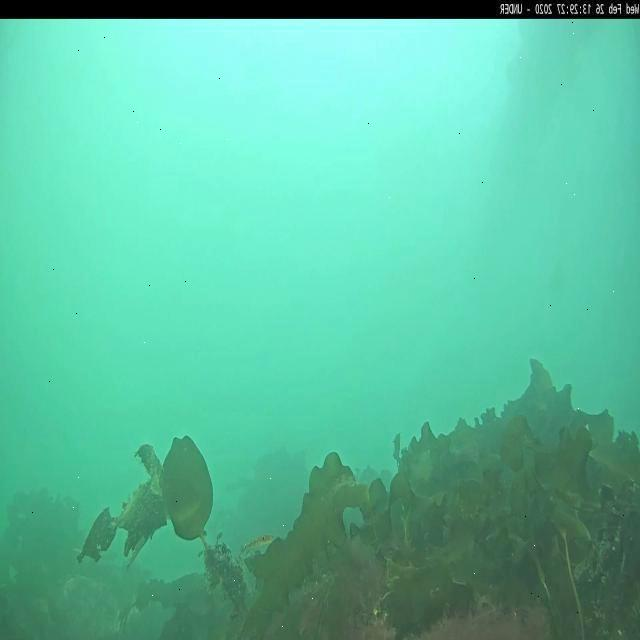fish: (240, 533, 276, 555)
